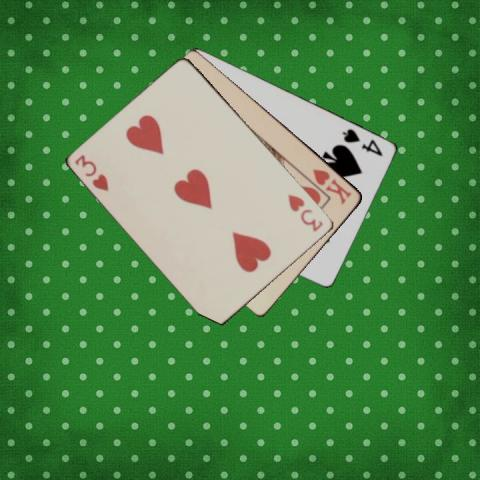3h: (284, 191, 324, 233), (72, 152, 111, 194)
4s: (339, 126, 385, 158)
Kh: (310, 165, 354, 206)
